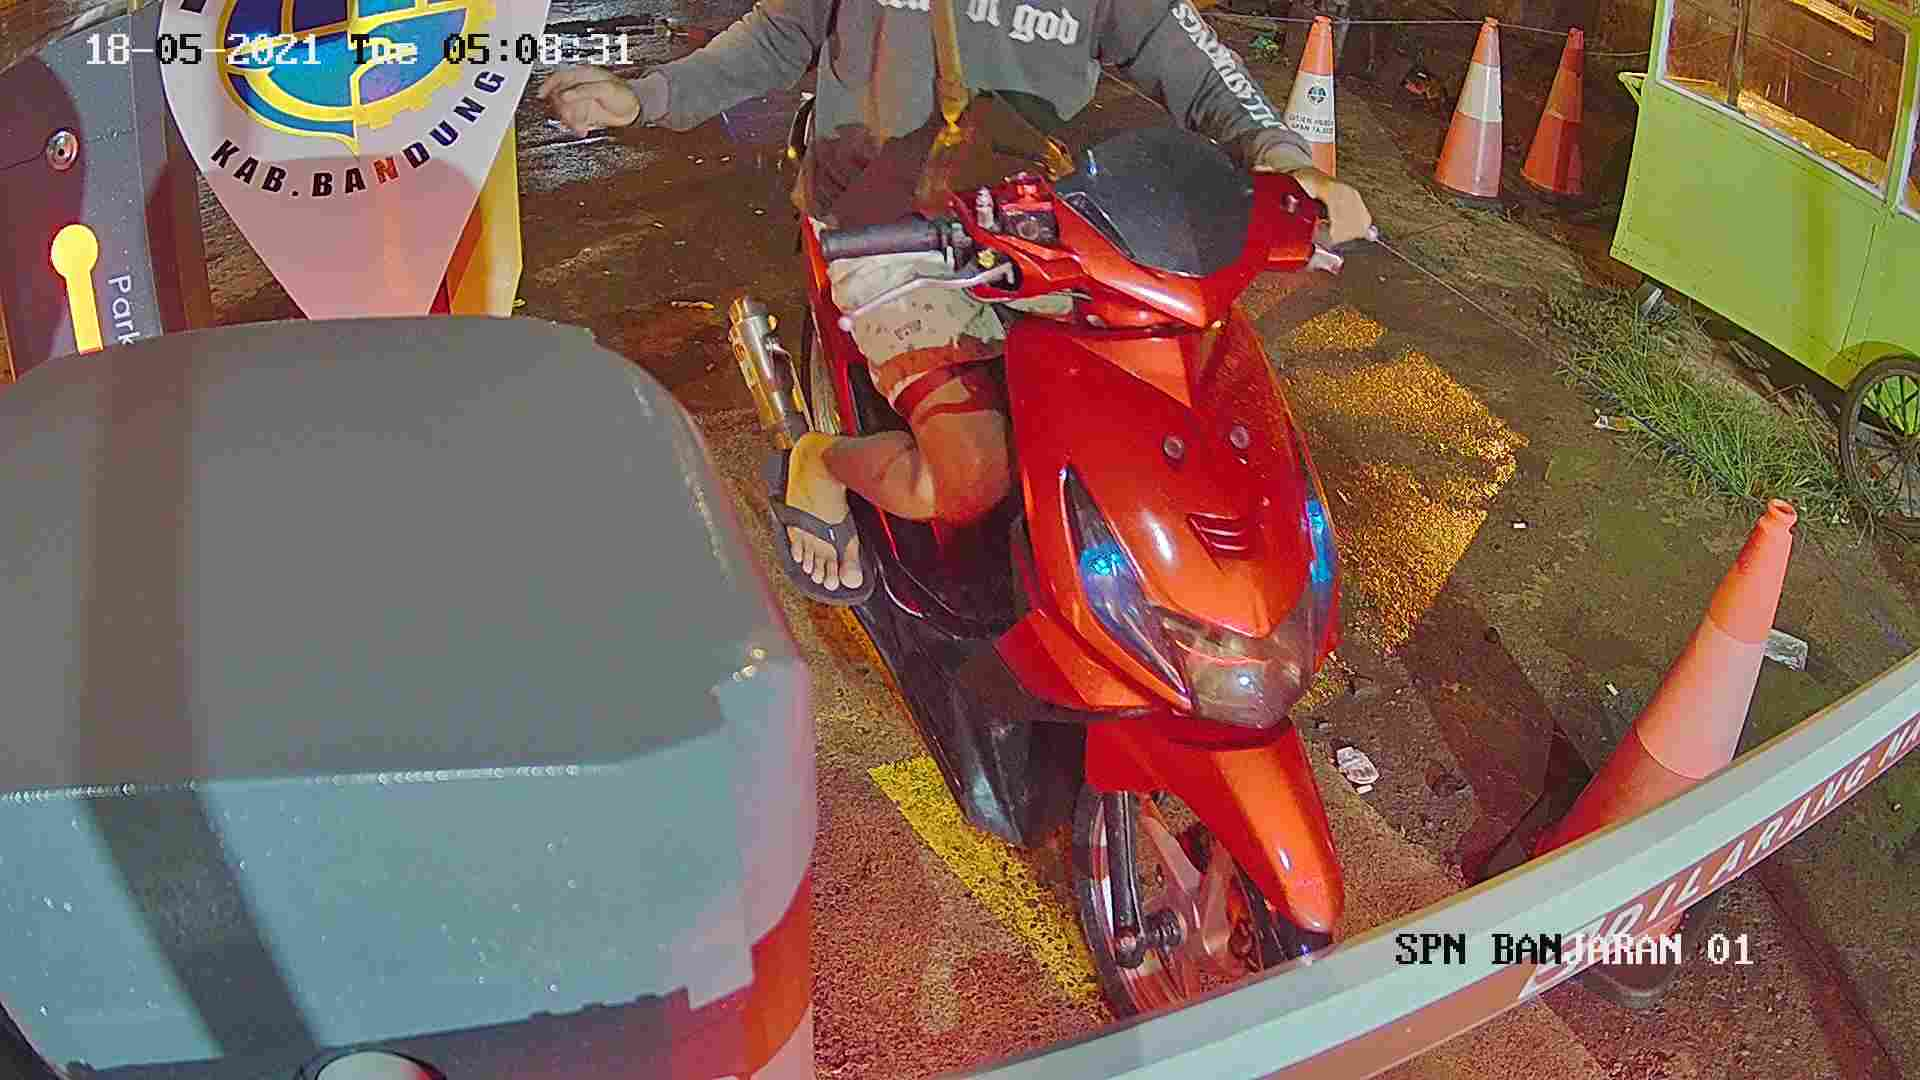motor: (742, 178, 1439, 1007)
